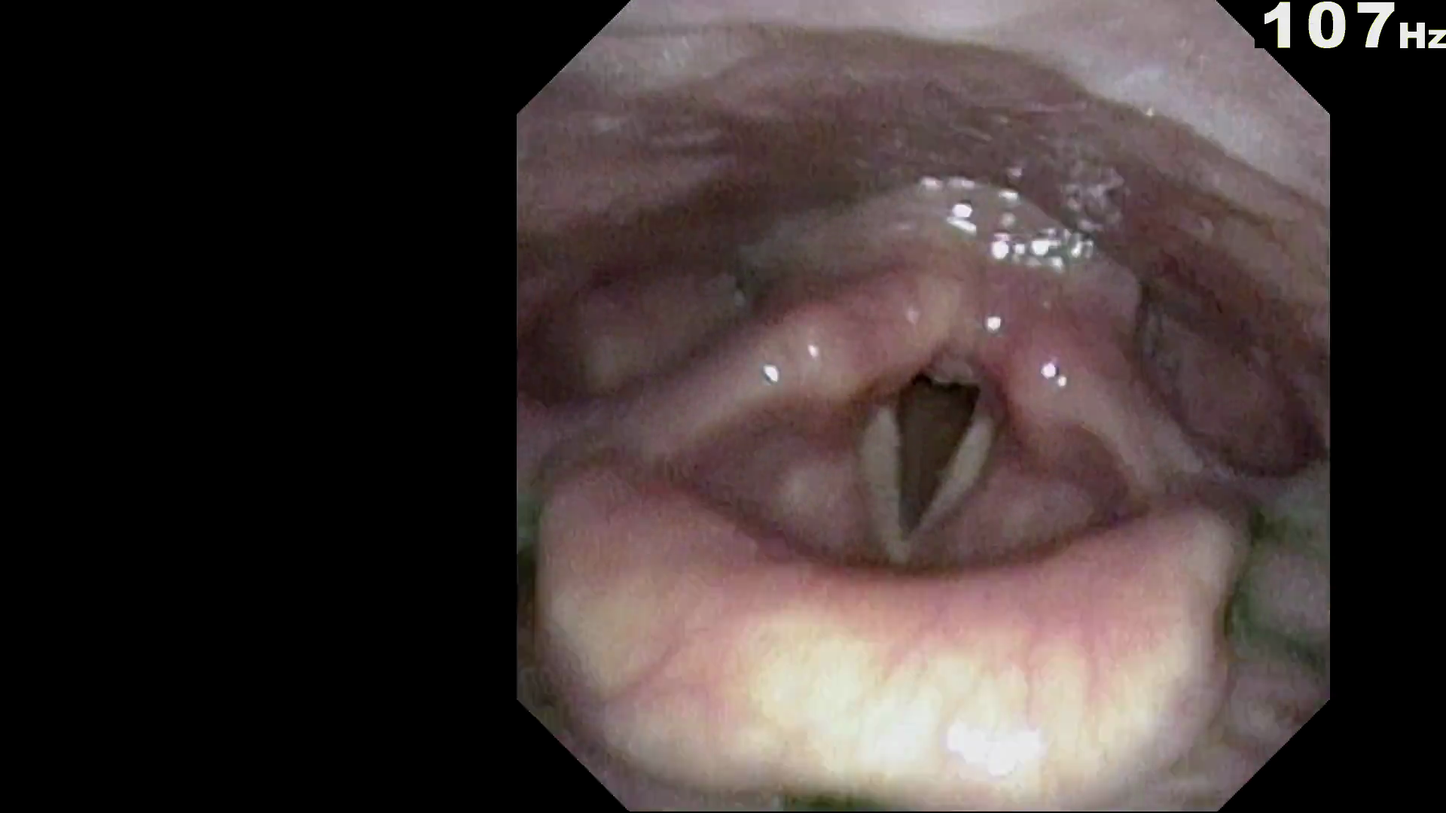trachea: (857, 349, 1007, 570)
